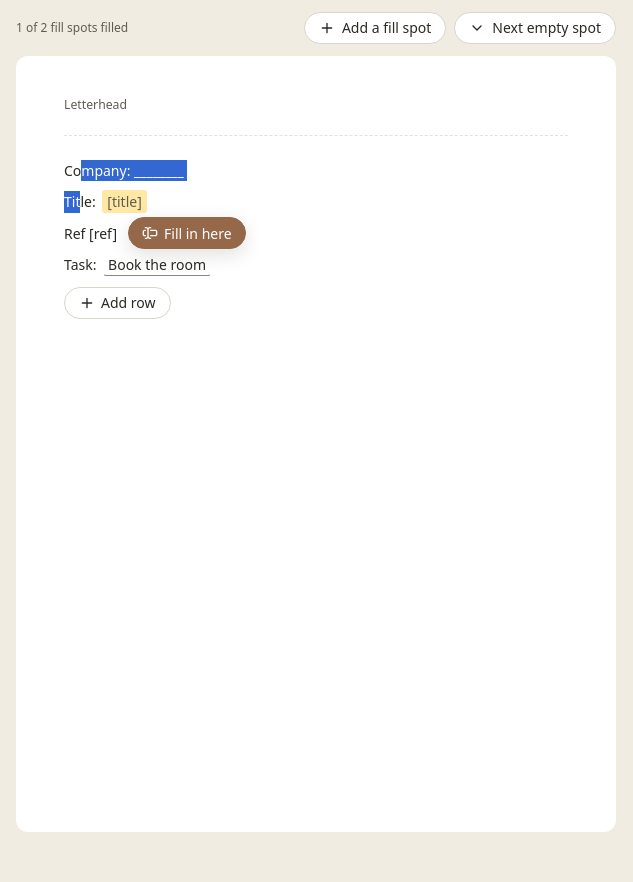
Test: DocumentPage: "Fill in here" beside a selection › says why a selection over two lines cannot take a spot, in a status line
Click the button "Fill in here" at (187, 233), box [128,217,246,249]
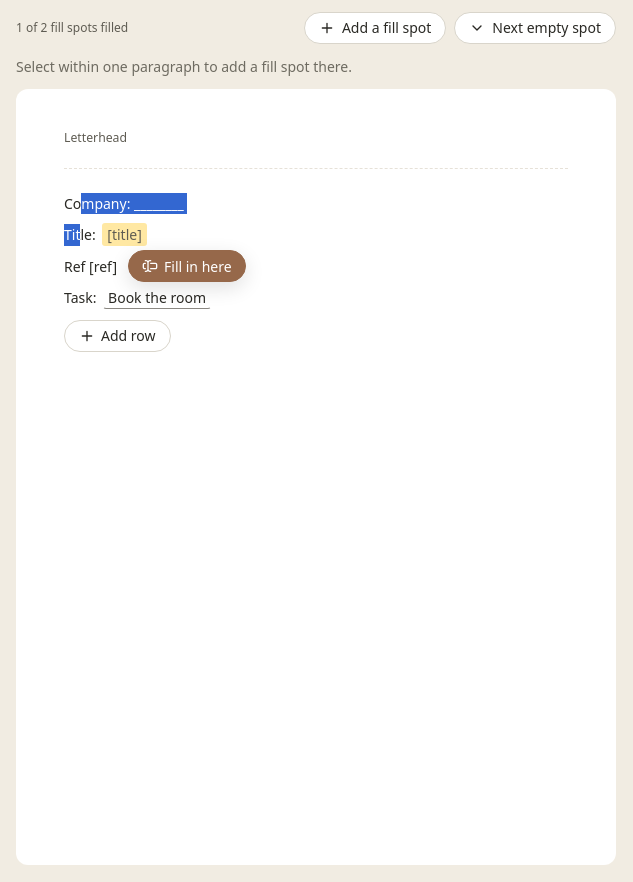
Now the message with class "document-page__tool-message" reads "Select within one paragraph to add a fill spot there.", box [16,57,352,76]
